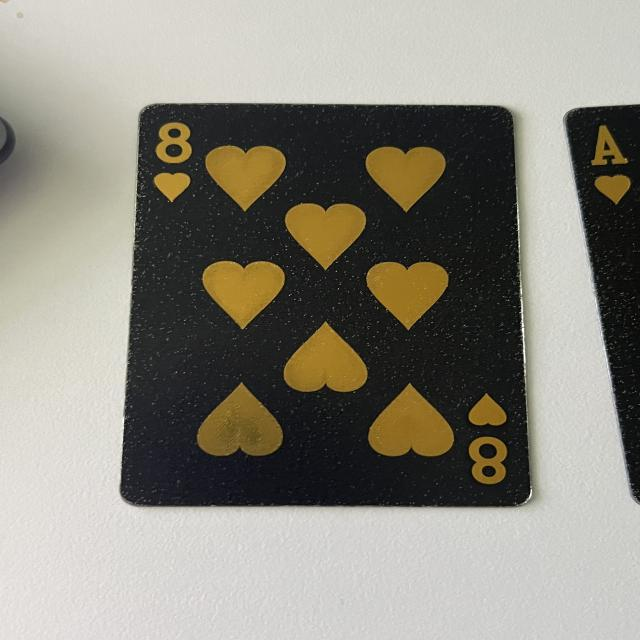8H: (462, 392, 516, 488), (151, 118, 199, 206)
AH: (583, 118, 640, 210)
